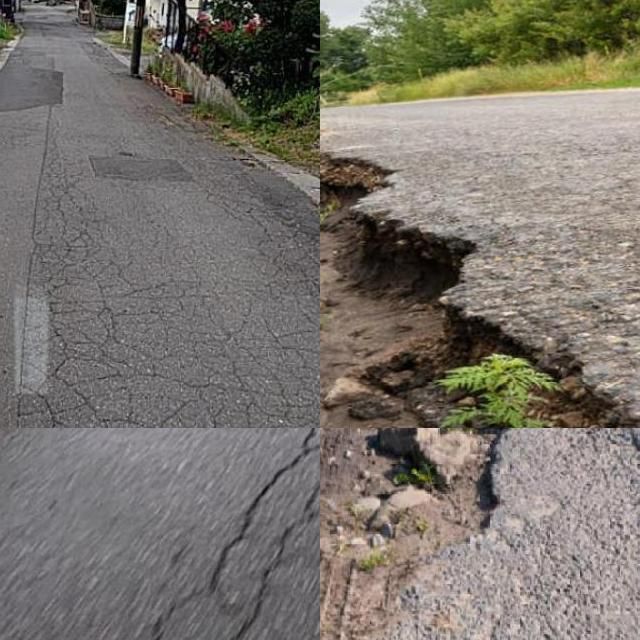Pinggir: (320, 123, 640, 428), (320, 428, 535, 605)
Retak Buaya: (11, 180, 320, 428), (108, 428, 320, 640)
Sambungan: (0, 65, 70, 113), (87, 153, 192, 180)
